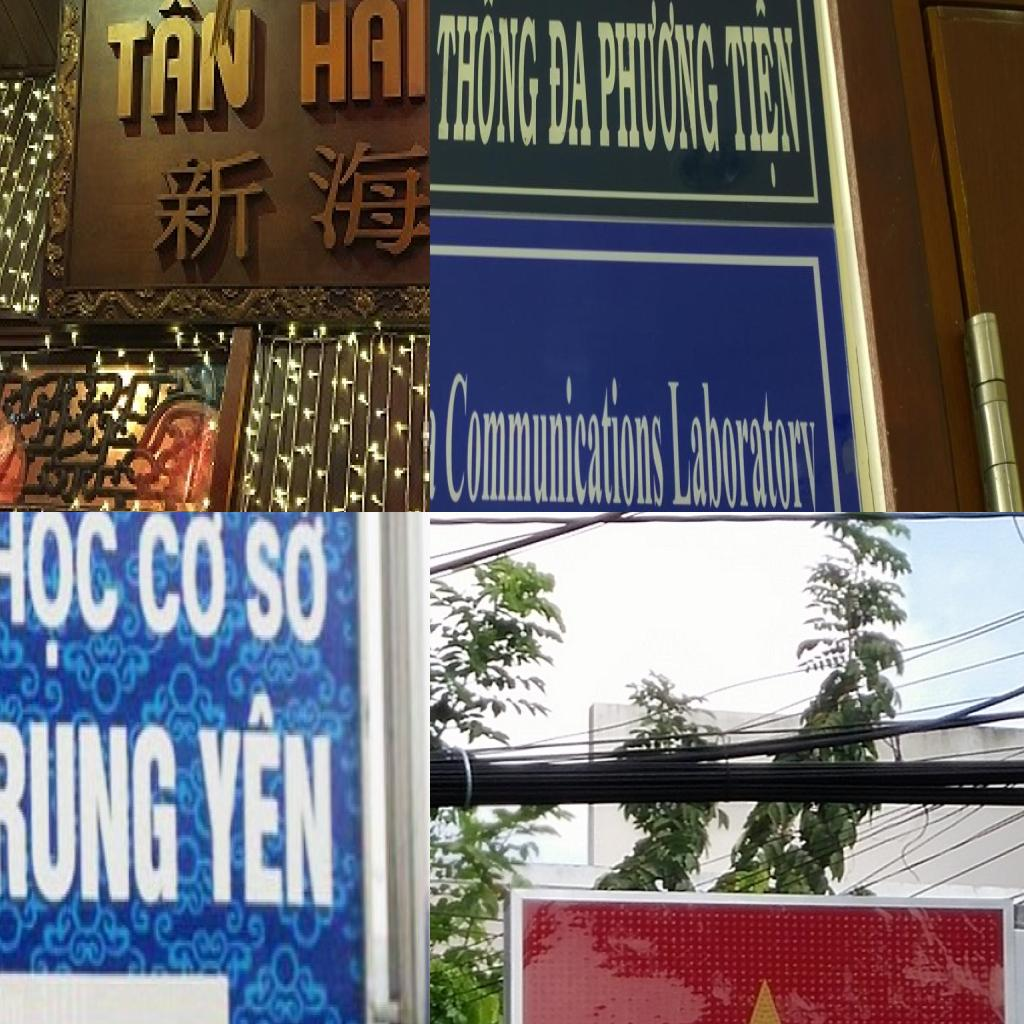text: (0, 714, 180, 906), (443, 361, 667, 512), (598, 0, 724, 160), (98, 0, 258, 123), (0, 512, 119, 676), (719, 0, 808, 198), (431, 0, 540, 150), (293, 0, 430, 118), (137, 512, 228, 642), (243, 512, 329, 648), (546, 9, 593, 152)
